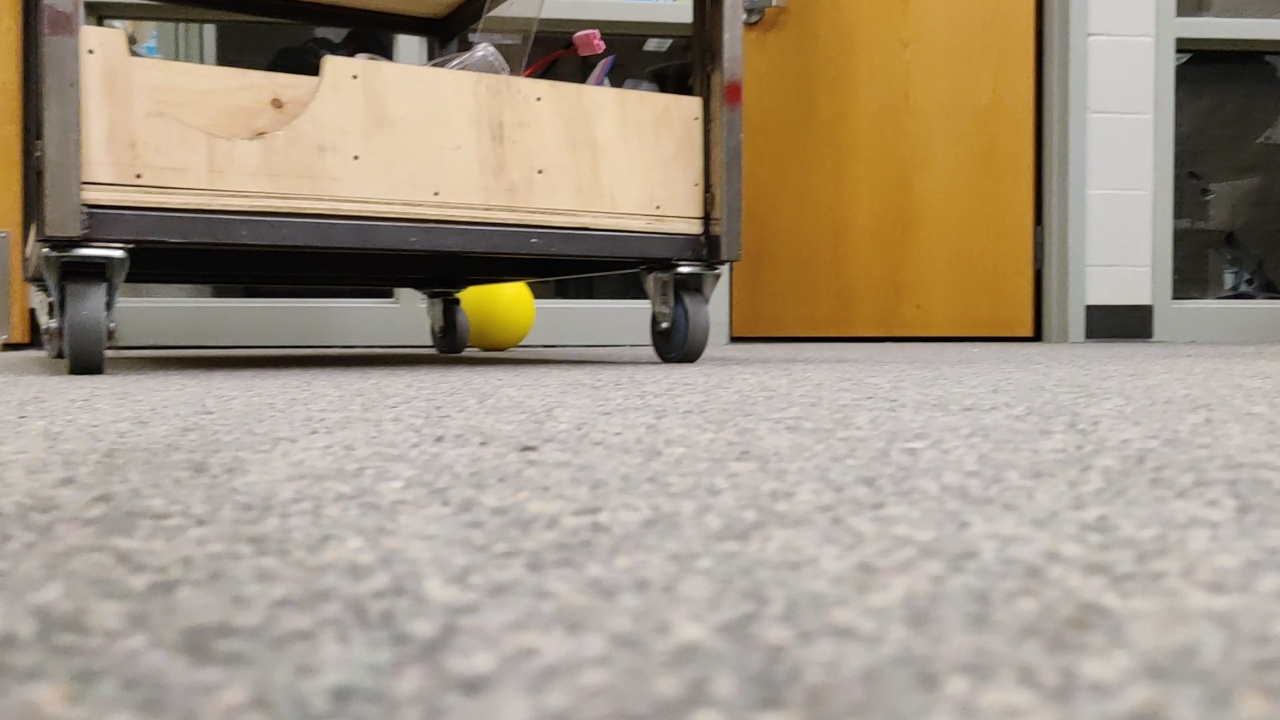Ball: (425, 267, 545, 355)
